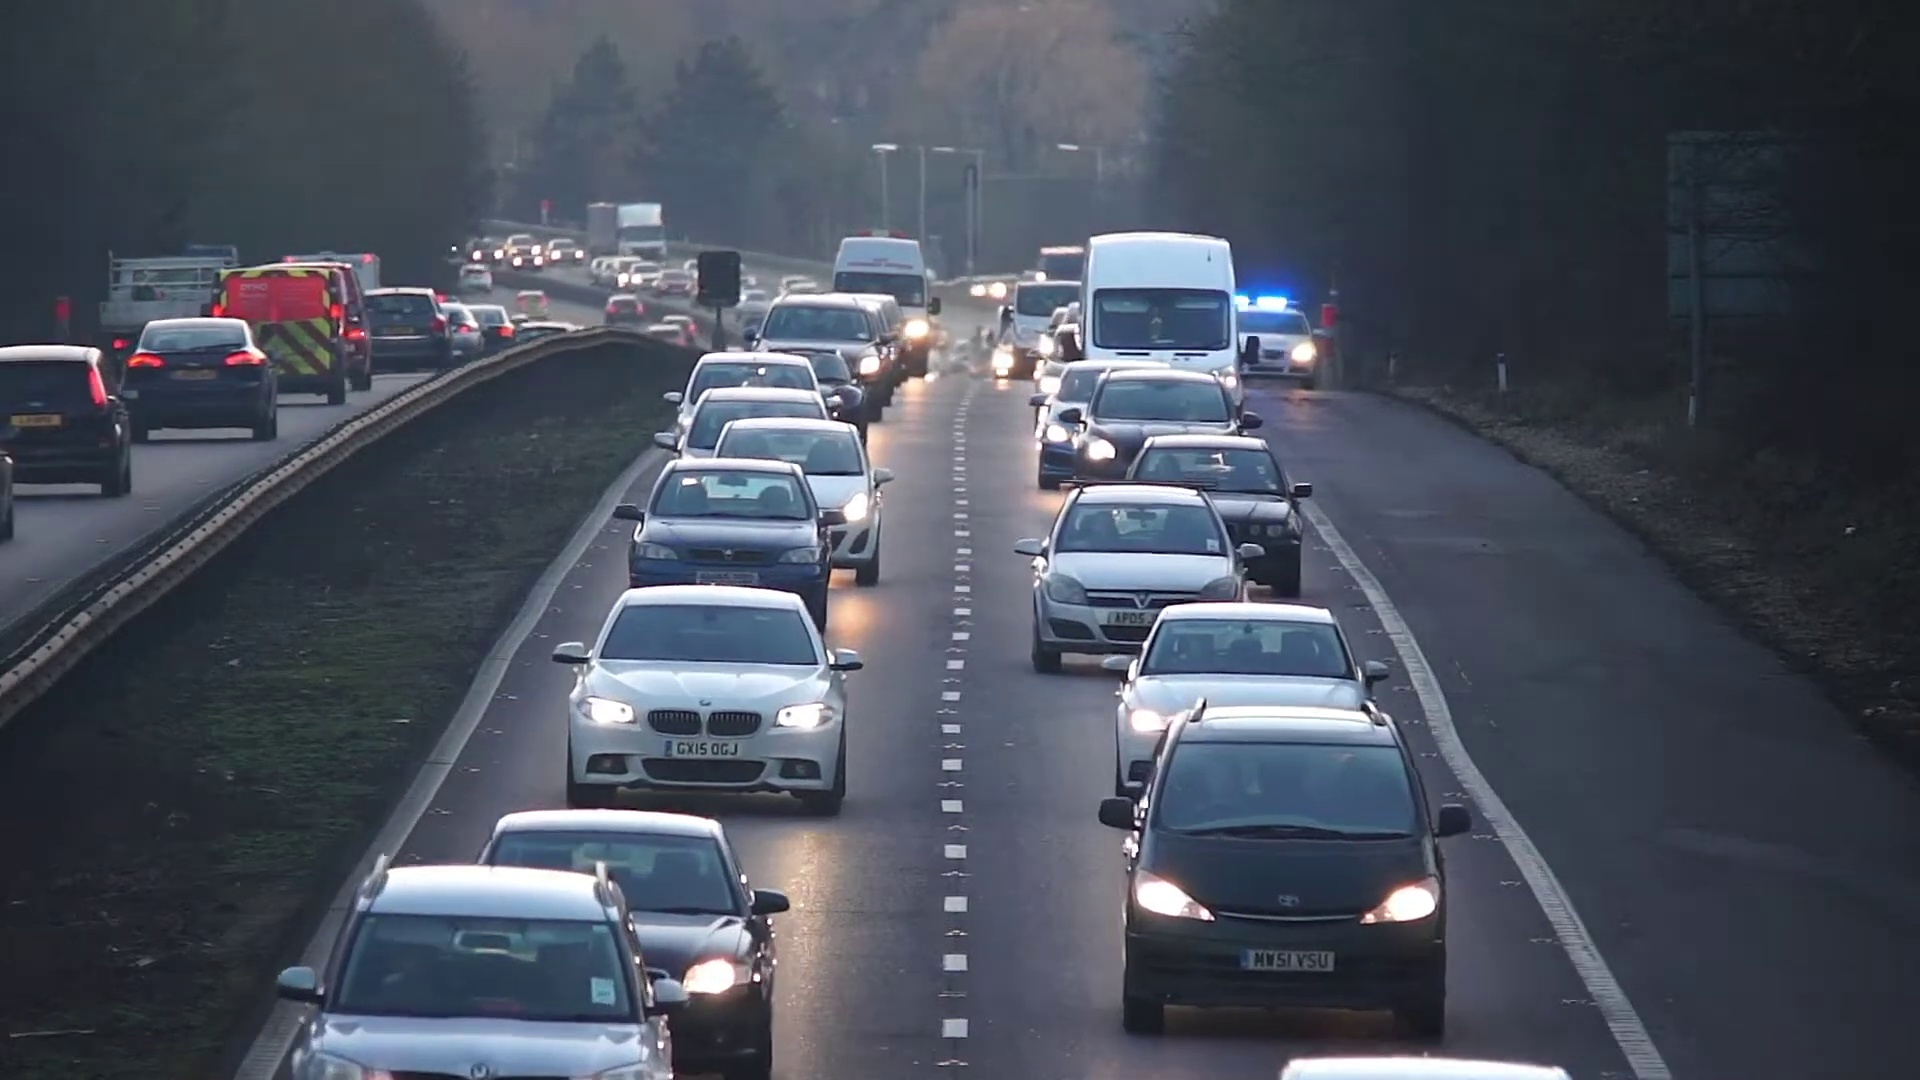license_plate: (1237, 947, 1337, 974), (668, 739, 746, 760), (1107, 607, 1156, 627), (698, 569, 760, 583)
